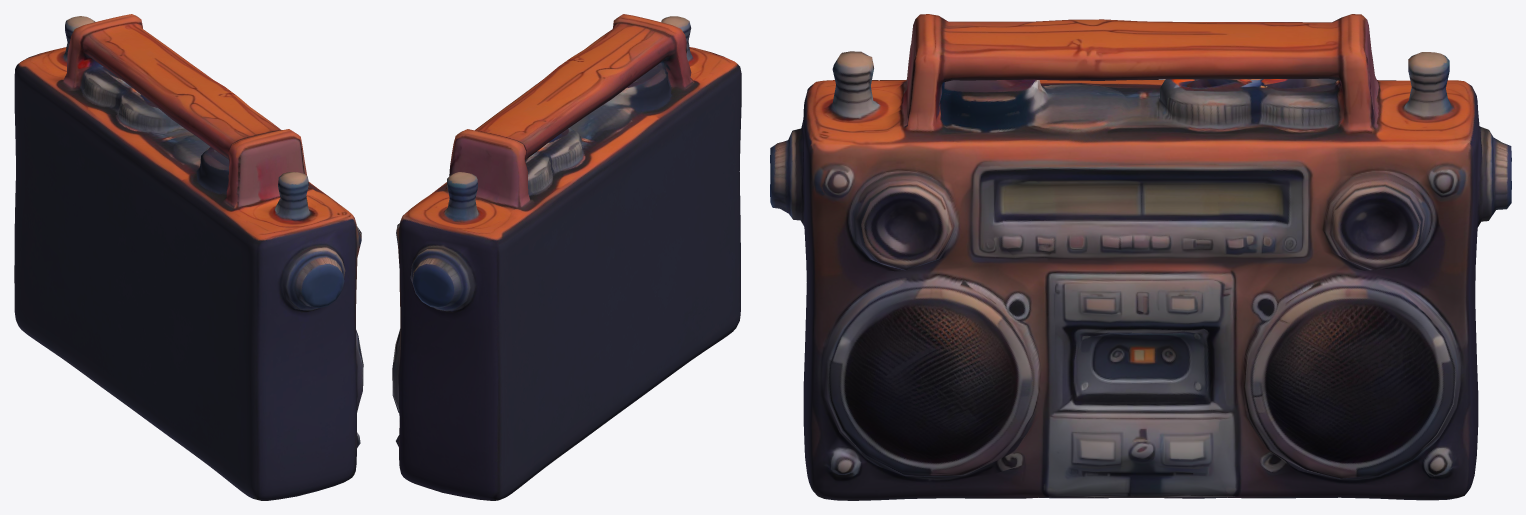
Rendered from tripo_convert_8c9bf067-a868-4bdc-be2a-4d1038d56a3b.fbx.
3 renders of one model, left to right at view 1: azimuth 30°, elevation 25°; view 2: azimuth 150°, elevation 25°; view 3: azimuth 270°, elevation 25°, orthographic. The views are drawn at different scales.
Visible parts, largest first — view 1: tripo_node_8c9bf067-a868-4bdc-be2a-4d1038d56a3b; view 2: tripo_node_8c9bf067-a868-4bdc-be2a-4d1038d56a3b; view 3: tripo_node_8c9bf067-a868-4bdc-be2a-4d1038d56a3b.
Part boxes in pixels (bbox=[...]): tripo_node_8c9bf067-a868-4bdc-be2a-4d1038d56a3b: bbox=[14, 14, 363, 500]; tripo_node_8c9bf067-a868-4bdc-be2a-4d1038d56a3b: bbox=[392, 14, 741, 500]; tripo_node_8c9bf067-a868-4bdc-be2a-4d1038d56a3b: bbox=[770, 14, 1511, 500].
Bounding box in the file's own units: 24.61 × 62.99 × 94.97.
1 material, 1 textured.
